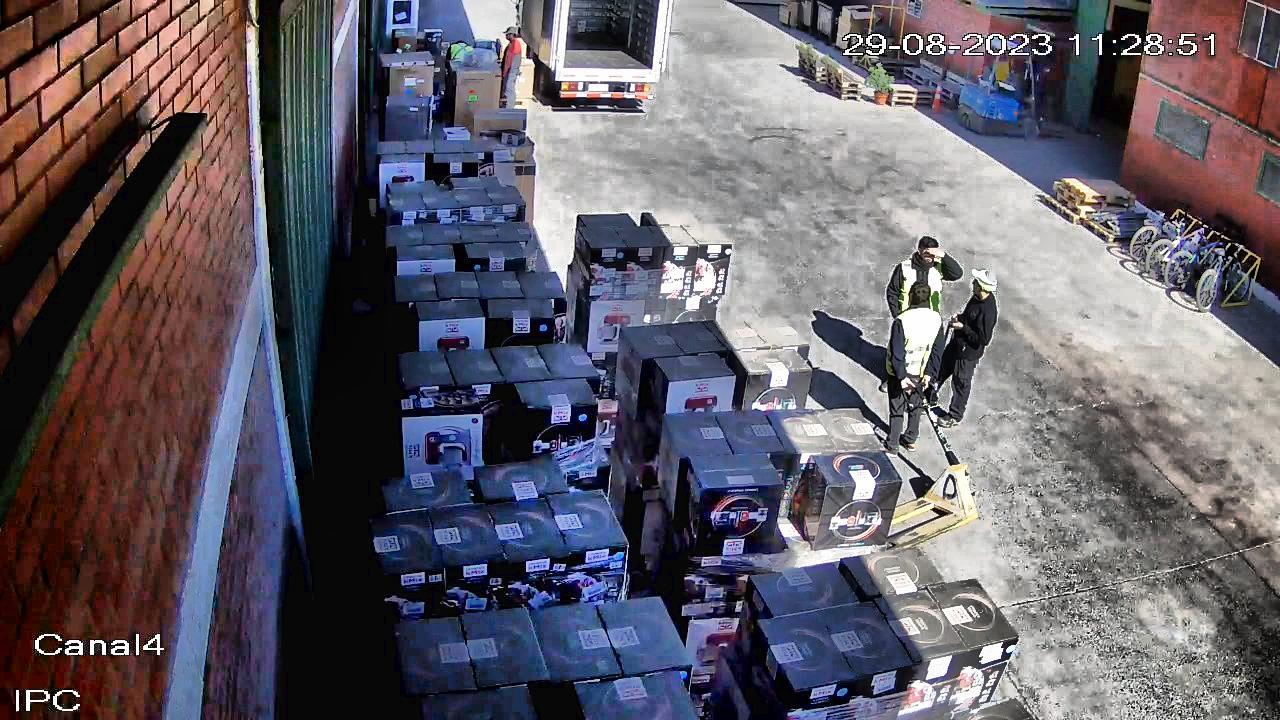con-casco: (966, 265, 1000, 304), (500, 26, 523, 42)
con-chaleco: (879, 306, 943, 384), (893, 256, 951, 329), (448, 41, 479, 78)
persona: (862, 278, 952, 461), (915, 260, 1008, 435), (872, 232, 968, 399), (495, 23, 525, 129), (444, 36, 479, 111)
sin-casco: (912, 234, 947, 268), (903, 279, 935, 314)
sin-chaleco: (944, 289, 1005, 356), (499, 39, 523, 78)
